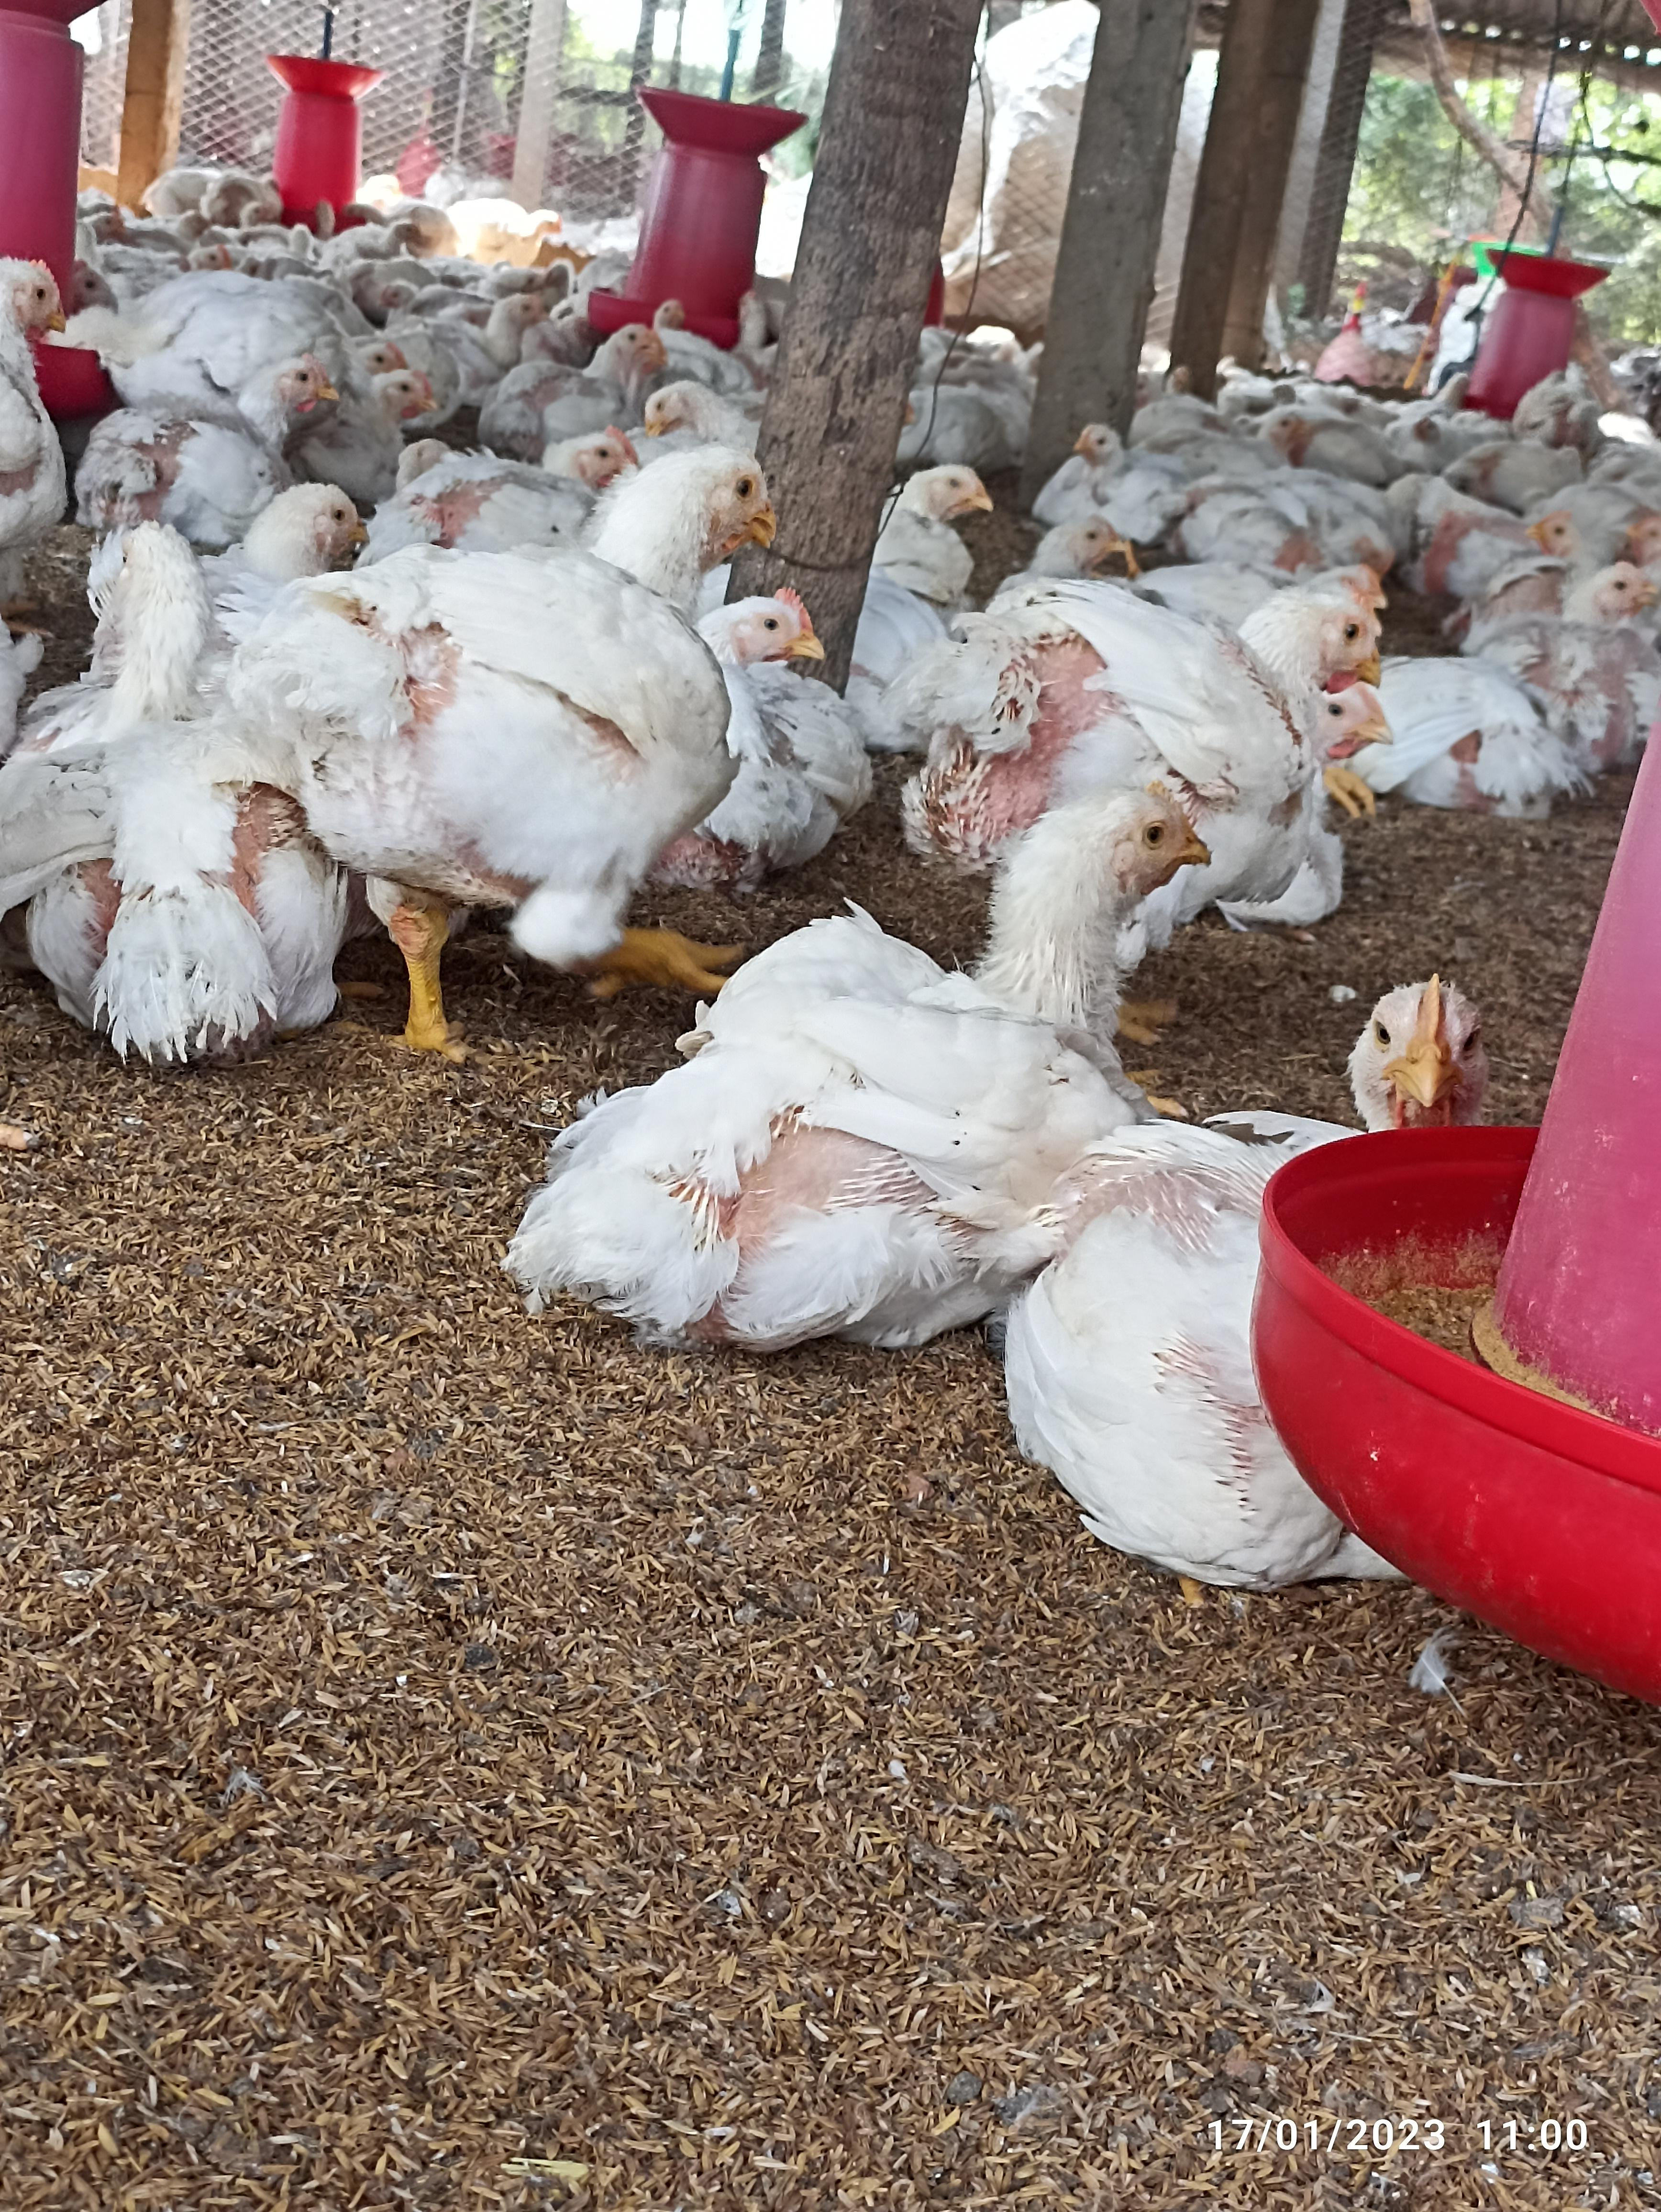Pollos: (555, 782, 1199, 1308), (241, 438, 768, 911), (26, 473, 342, 1015), (937, 553, 1392, 769), (1418, 556, 1654, 799), (689, 579, 869, 843), (89, 347, 333, 516), (1310, 968, 1516, 1139), (879, 462, 996, 640), (1061, 427, 1188, 527)
